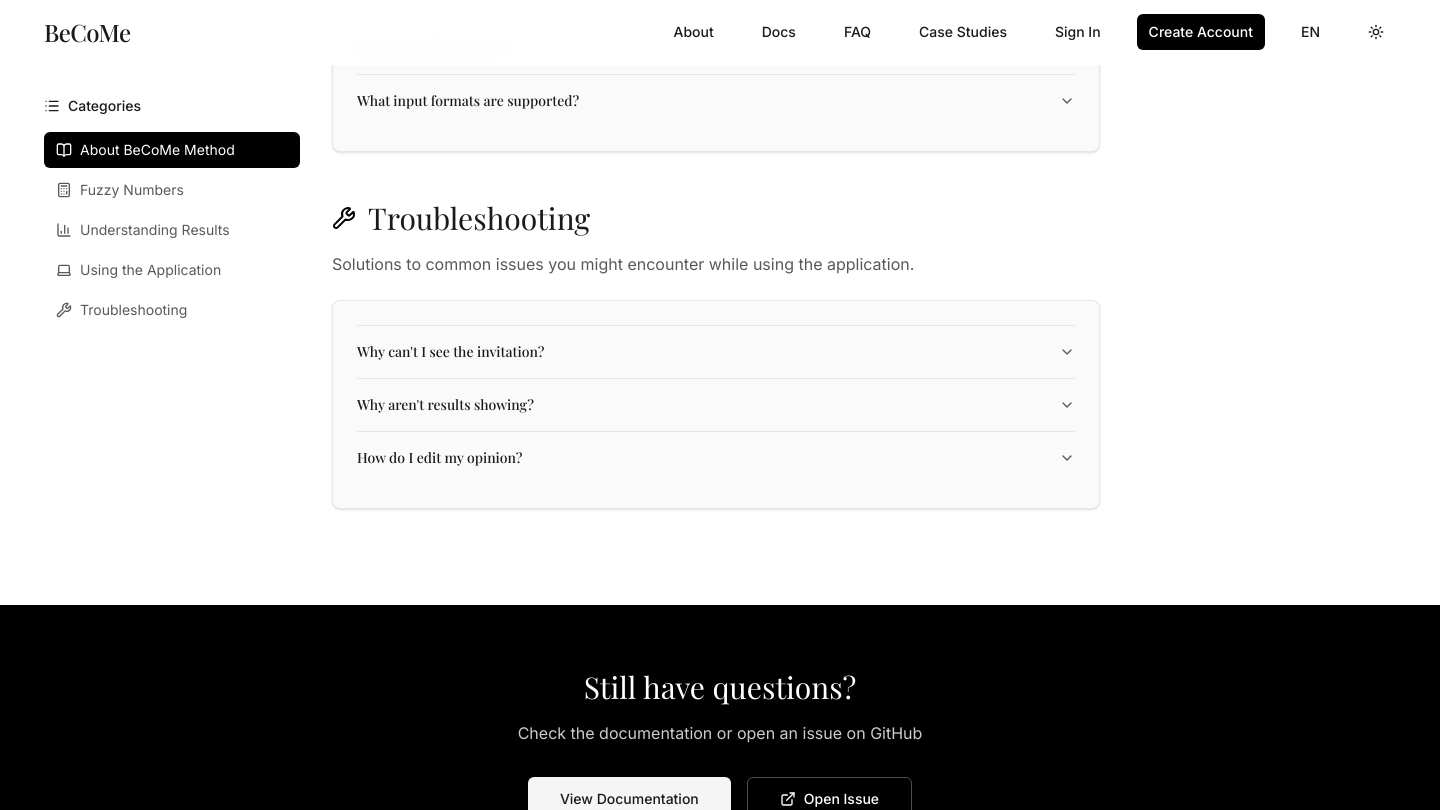
Scenario: FAQ › answer matches what the application does (en: Why aren't results showing?)
The width and height of the screenshot is (1440, 810).
(page scrolled)
Step 1. Click the button "Why aren't results showing?" → (445,404), box [357,379,1075,431]
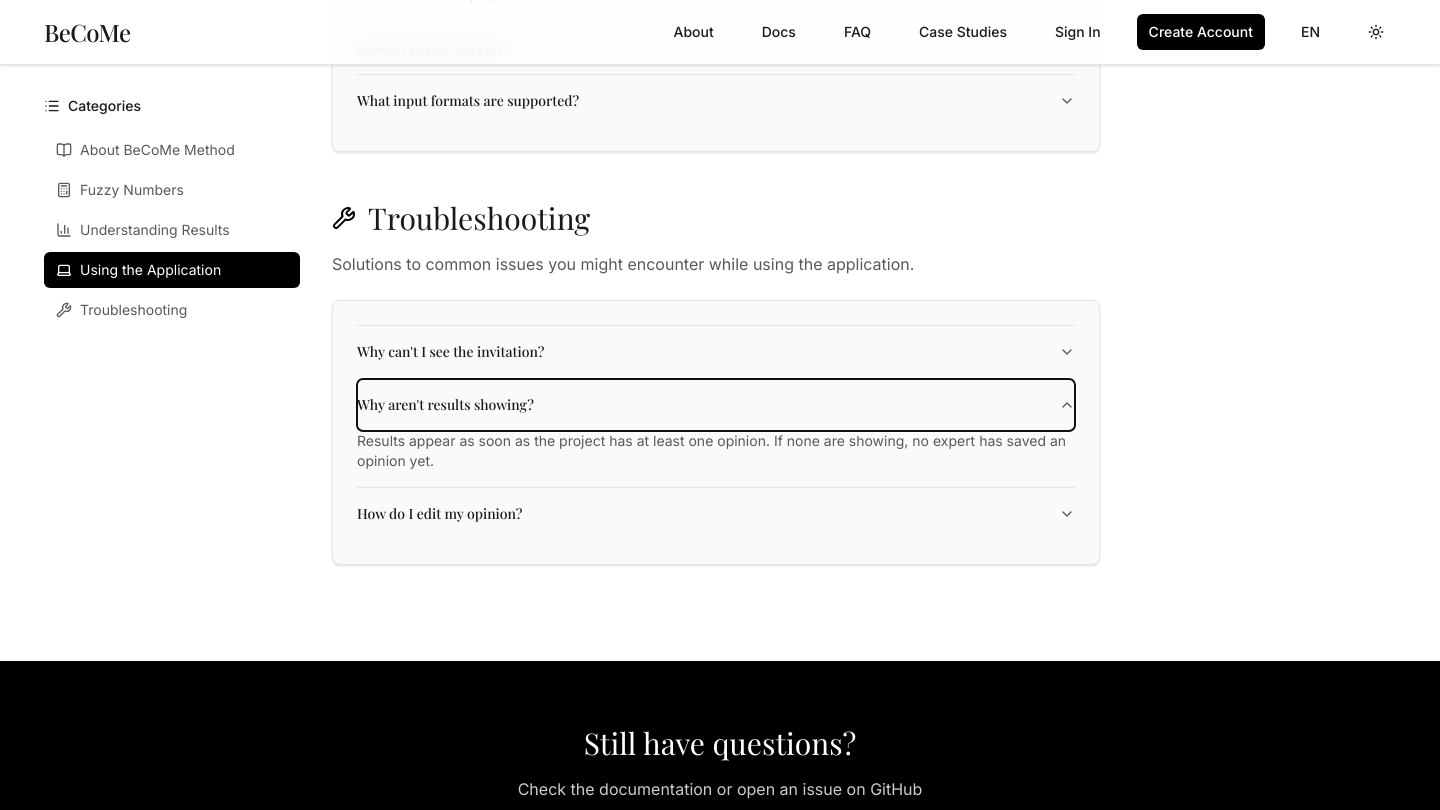
Expected: the text "Results appear as soon as the project has at least one opinion. If none are showing, no expert has saved an opinion yet." is shown, [357,432,1066,469]
